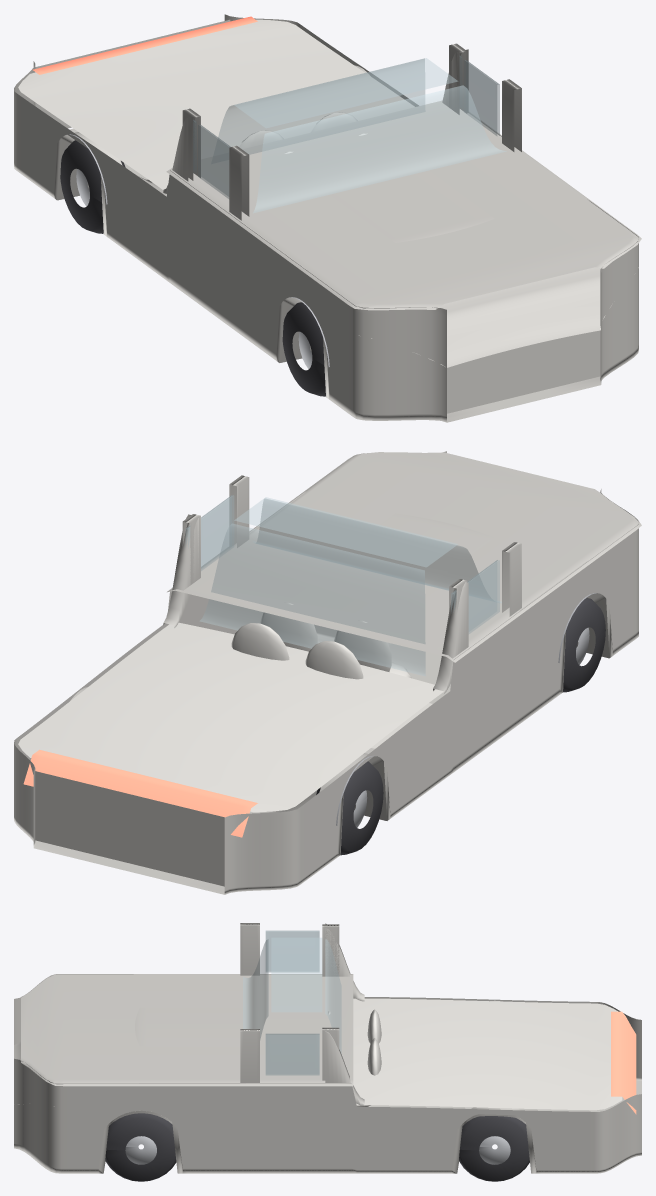
The model's file is ev-sedan-deck.glb.
3 renders of one model, top to bottom at view 1: azimuth 30°, elevation 25°; view 2: azimuth 150°, elevation 25°; view 3: azimuth 270°, elevation 25°, orthographic. The views are drawn at different scales.
Visible parts, largest first — view 1: BodyShoulder, BodySide, BodyDeckLid, Windshield, BodyHood, RearWindow, BodyNose, RoofGlass, WheelFLTire, WheelRLTire, SideWindowFR, SideWindowFL (+8 smaller); view 2: BodyShoulder, BodyDeckLid, BodySide, RearWindow, BodyFascia, Windshield, BodyHood, RoofGlass, TailLightBar, WheelFLTire, WheelRLTire, BodyCPillar_L (+9 smaller); view 3: BodySide, BodyShoulder, BodyDeckLid, BodyHood, RoofGlass, WheelFRTire, WheelRRTire, SideWindowFR, SideWindowFL, TailLightBar, Windshield, RearWindow (+9 smaller).
Boxes of the visible parts, x1,y1,x2,y2 form: BodyShoulder: (166, 100, 641, 310); BodySide: (14, 14, 638, 422); BodyDeckLid: (18, 19, 414, 189); Windshield: (253, 85, 506, 212); BodyHood: (237, 151, 638, 367); RearWindow: (218, 58, 425, 154); BodyNose: (447, 330, 600, 413); RoofGlass: (234, 58, 457, 127); WheelFLTire: (282, 302, 325, 396); WheelRLTire: (60, 140, 125, 233); SideWindowFR: (464, 60, 499, 135); SideWindowFL: (198, 124, 230, 198); BodyShoulder: (167, 452, 641, 662); BodyDeckLid: (18, 622, 443, 812); BodySide: (14, 451, 638, 894); RearWindow: (200, 523, 425, 676); BodyFascia: (35, 771, 224, 886); Windshield: (253, 499, 501, 602); BodyHood: (249, 491, 587, 610); RoofGlass: (234, 497, 457, 566); TailLightBar: (23, 749, 257, 837); WheelFLTire: (563, 598, 605, 692); WheelRLTire: (316, 761, 383, 855); BodyCPillar_L: (433, 582, 468, 693); BodySide: (14, 974, 641, 1173); BodyShoulder: (21, 974, 353, 1086); BodyDeckLid: (353, 998, 622, 1110); BodyHood: (14, 974, 245, 1106); RoofGlass: (271, 938, 321, 1011); WheelFRTire: (105, 1113, 176, 1181); WheelRRTire: (459, 1116, 529, 1181); SideWindowFR: (265, 1033, 319, 1075); SideWindowFL: (265, 930, 319, 972); TailLightBar: (611, 1011, 636, 1114); Windshield: (243, 939, 268, 1039); RearWindow: (325, 939, 341, 1053).
Bounding box in the file's own units: 1.88 × 1.22 × 4.44.
